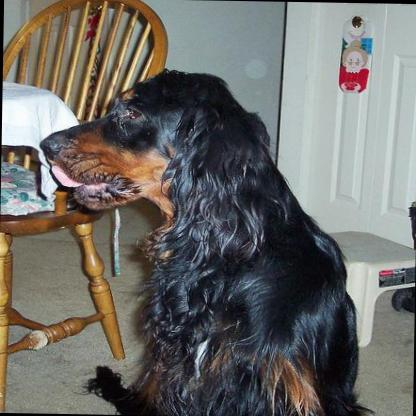Gordon_setter: (28, 65, 384, 416)
